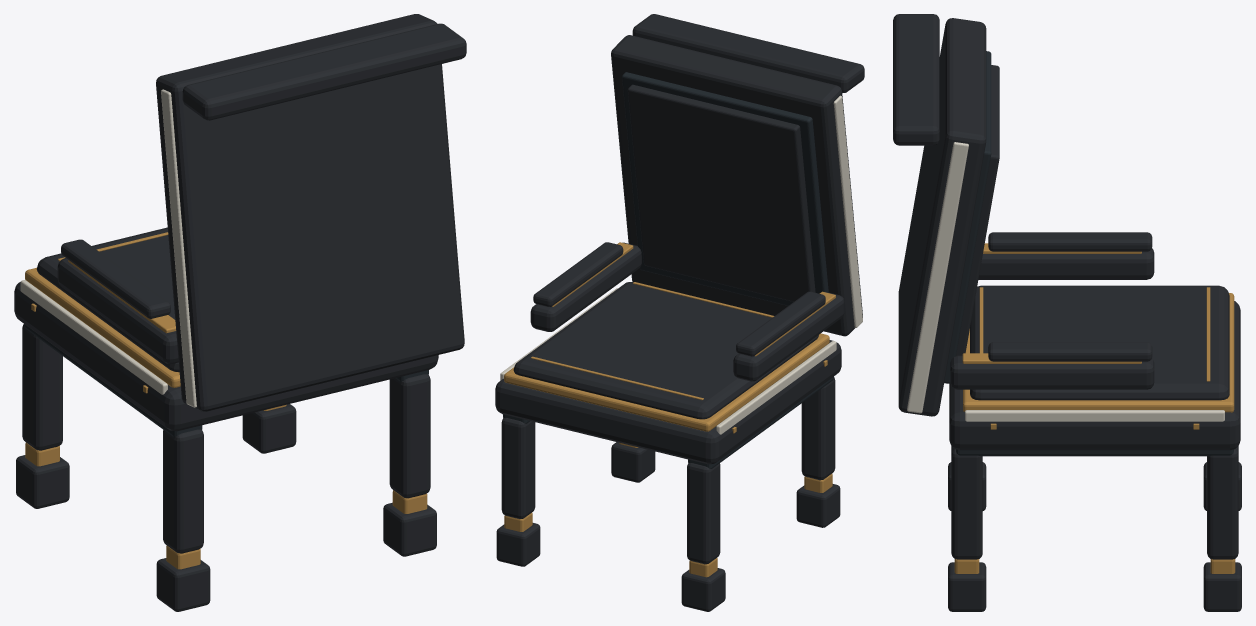
Rendered from SM_Aurelion_KIT_Z11ConversationChair.fbx.
The picture shows the model from 3 angles, left to right: view 1: azimuth 30°, elevation 25°; view 2: azimuth 150°, elevation 25°; view 3: azimuth 270°, elevation 25°; orthographic projection. The views are drawn at different scales.
Parts seen in each view (by area): view 1: SM_Aurelion_KIT_Z11ConversationChair; view 2: SM_Aurelion_KIT_Z11ConversationChair; view 3: SM_Aurelion_KIT_Z11ConversationChair.
Part boxes in pixels (left/top/right/bottom): SM_Aurelion_KIT_Z11ConversationChair: left=14, top=14, right=466, bottom=611; SM_Aurelion_KIT_Z11ConversationChair: left=495, top=14, right=864, bottom=611; SM_Aurelion_KIT_Z11ConversationChair: left=893, top=14, right=1241, bottom=611.
Size of the model in its own units: 65 by 77.75 by 119.
